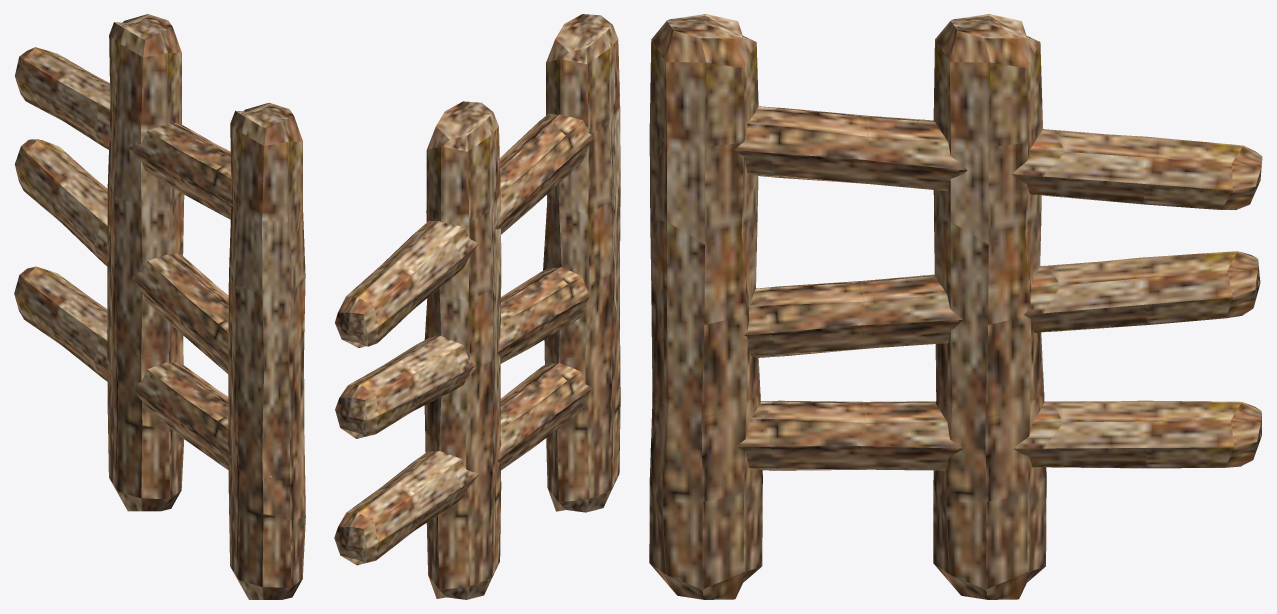
File: cerca.fbx
The picture shows the model from 3 angles, left to right: view 1: azimuth 30°, elevation 25°; view 2: azimuth 150°, elevation 25°; view 3: azimuth 270°, elevation 25°; orthographic projection. The views are drawn at different scales.
Visible parts, largest first — view 1: Cube.004; view 2: Cube.004; view 3: Cube.004.
Part boxes in pixels (x1=…): Cube.004: x1=14, y1=14, x2=305, y2=599; Cube.004: x1=334, y1=14, x2=620, y2=599; Cube.004: x1=649, y1=14, x2=1262, y2=599.
Size of the model in its own units: 34.9 by 266 by 259.
